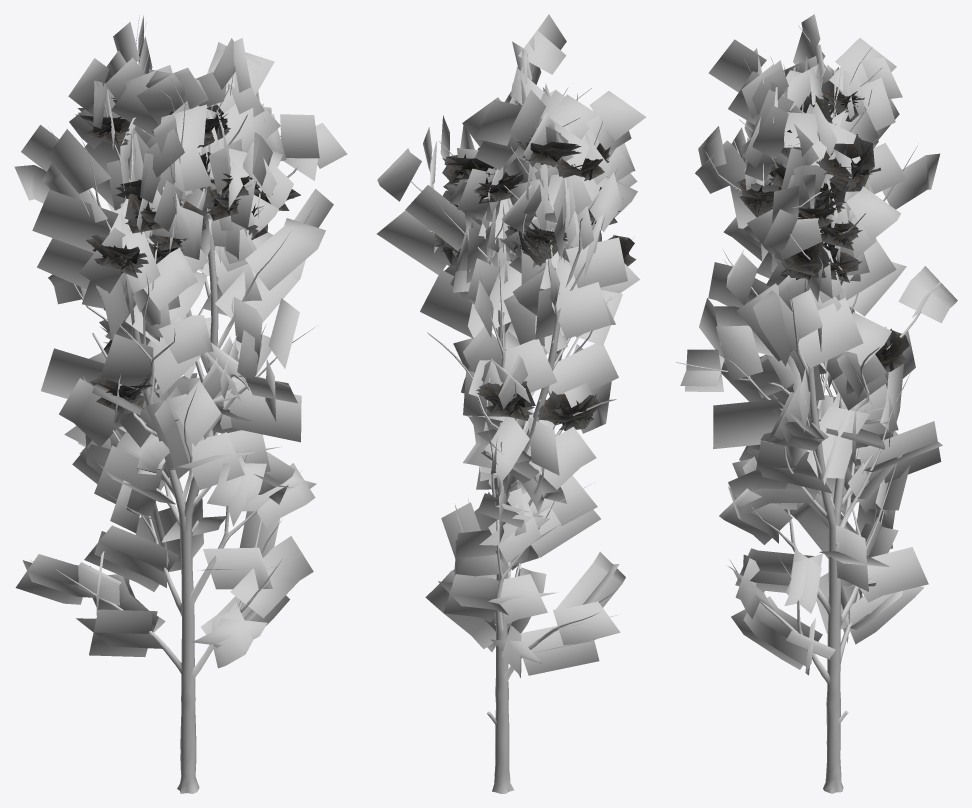
Rendered from Old_Horror_Tree10872.fbx.
The picture shows the model from 3 angles, left to right: view 1: azimuth 30°, elevation 25°; view 2: azimuth 150°, elevation 25°; view 3: azimuth 270°, elevation 25°; orthographic projection. The views are drawn at different scales.
Parts seen in each view (by area): view 1: Old_Horror_Tree10872_Branches_08, Old_Horror_Tree10872_diffus, Old_Horror_Tree10872_RiverBirchBark, Old_Horror_Tree10872_IMG_20160420_16230723; view 2: Old_Horror_Tree10872_Branches_08, Old_Horror_Tree10872_diffus, Old_Horror_Tree10872_RiverBirchBark, Old_Horror_Tree10872_IMG_20160420_16230723; view 3: Old_Horror_Tree10872_Branches_08, Old_Horror_Tree10872_diffus, Old_Horror_Tree10872_RiverBirchBark, Old_Horror_Tree10872_IMG_20160420_16230723.
Part boxes in pixels (x1,y1,x2,y2): Old_Horror_Tree10872_Branches_08: (14,15,347,668); Old_Horror_Tree10872_diffus: (75,65,300,414); Old_Horror_Tree10872_RiverBirchBark: (73,15,317,793); Old_Horror_Tree10872_IMG_20160420_16230723: (30,80,317,679); Old_Horror_Tree10872_Branches_08: (377,14,645,677); Old_Horror_Tree10872_diffus: (434,140,636,430); Old_Horror_Tree10872_RiverBirchBark: (410,65,602,793); Old_Horror_Tree10872_IMG_20160420_16230723: (435,169,617,725); Old_Horror_Tree10872_Branches_08: (680,14,957,675); Old_Horror_Tree10872_diffus: (738,74,909,374); Old_Horror_Tree10872_RiverBirchBark: (676,25,921,793); Old_Horror_Tree10872_IMG_20160420_16230723: (714,61,917,724).
Size of the model in its own units: 50.14 by 44.56 by 131.
